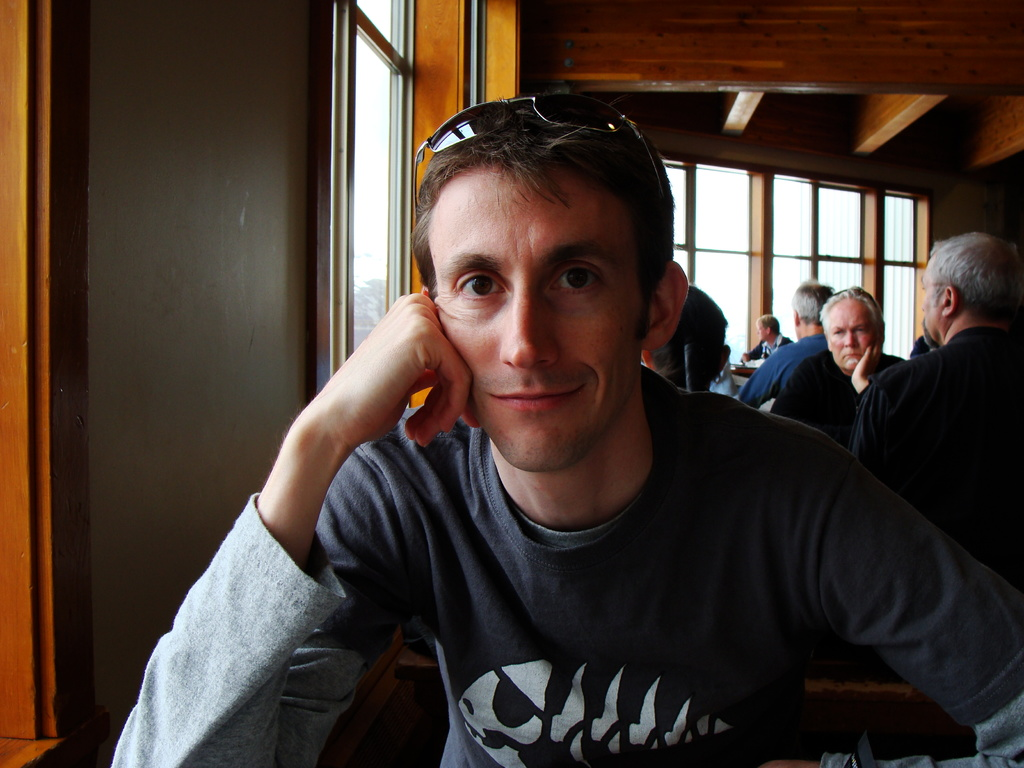Human_hand: (308, 294, 474, 497), (849, 342, 880, 387), (739, 349, 750, 365)
